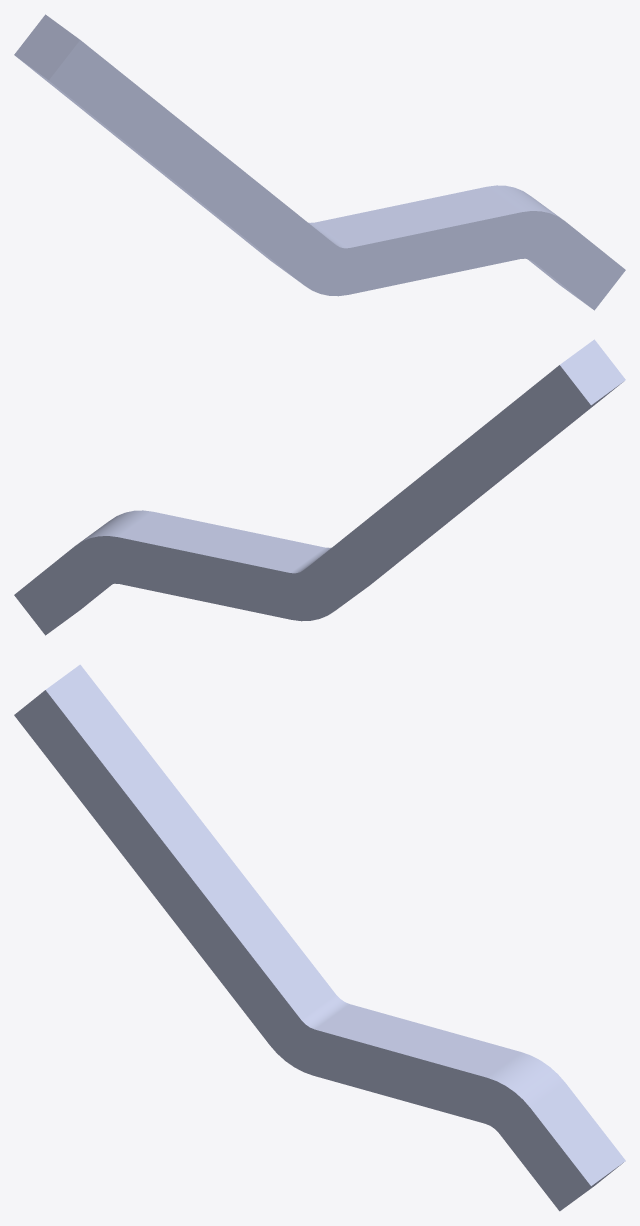
The model's file is body18_visual.obj.
3 renders of one model, top to bottom at view 1: azimuth 30°, elevation 25°; view 2: azimuth 150°, elevation 25°; view 3: azimuth 330°, elevation 25°, orthographic.
Visible parts, largest first — view 1: Body18; view 2: Body18; view 3: Body18.
Part boxes in pixels (x1,y1,x2,y2): Body18: (14, 14, 625, 310); Body18: (14, 339, 625, 635); Body18: (14, 664, 625, 1211).
Bounding box in the file's own units: 0.6742 × 0.4423 × 0.0705.
